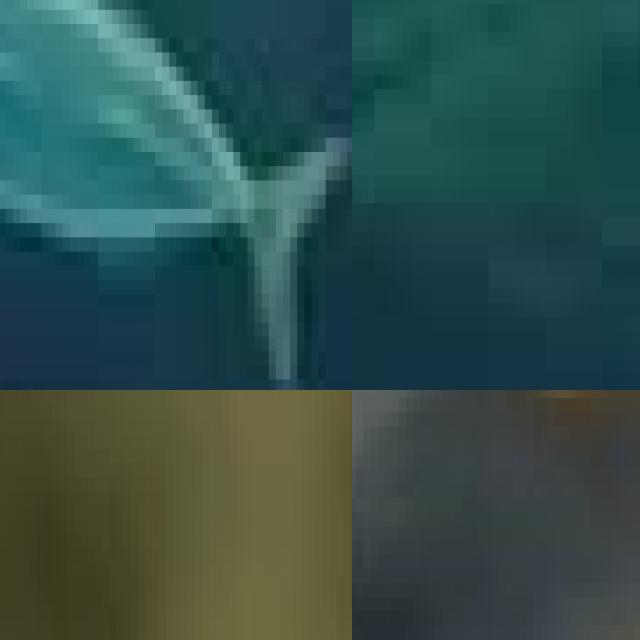fish: (0, 0, 352, 390), (352, 390, 640, 640)
